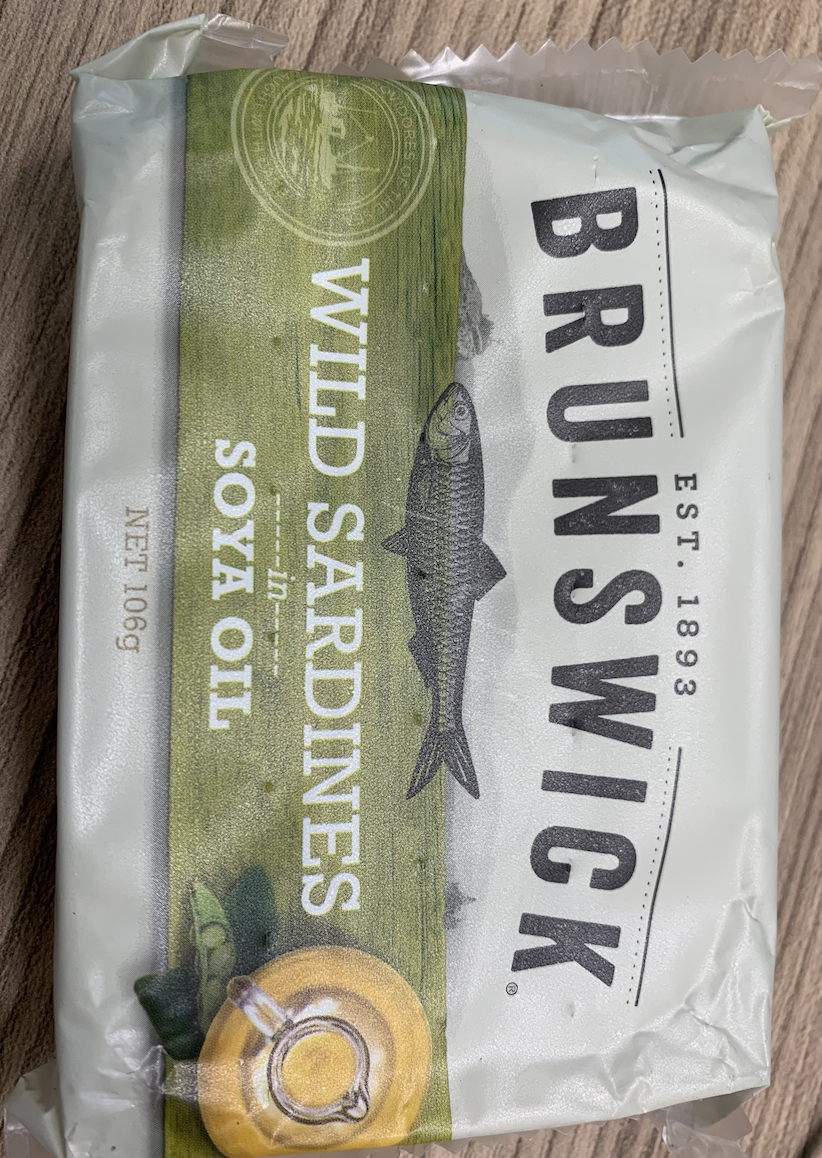sardines_150g: (112, 93, 728, 1094)
